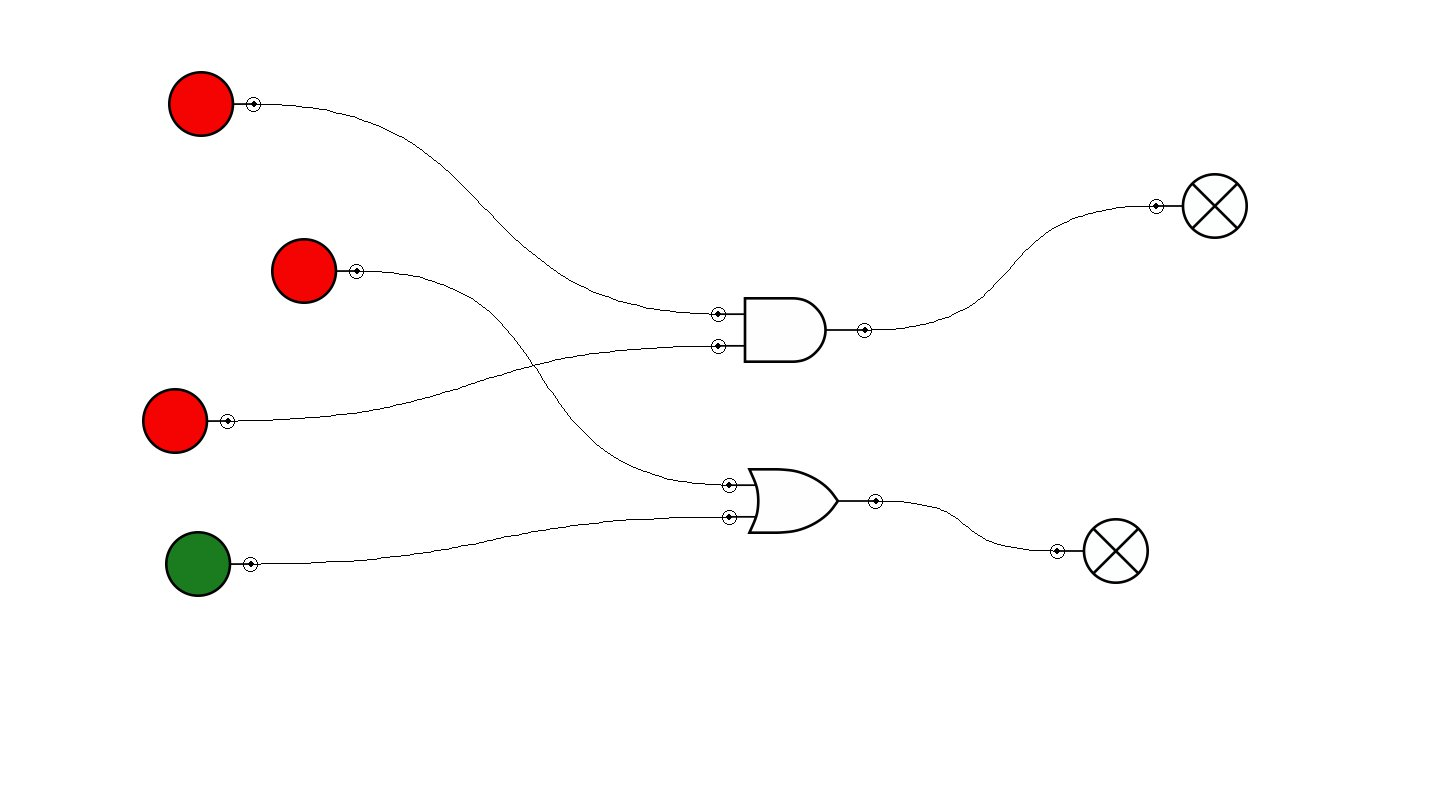and: (711, 297, 872, 363)
bulb: (1149, 173, 1248, 239), (1050, 518, 1149, 584)
or: (722, 468, 883, 534)
switch_False: (271, 238, 364, 304), (168, 71, 261, 137), (142, 388, 235, 454)
switch_True: (165, 531, 258, 597)
